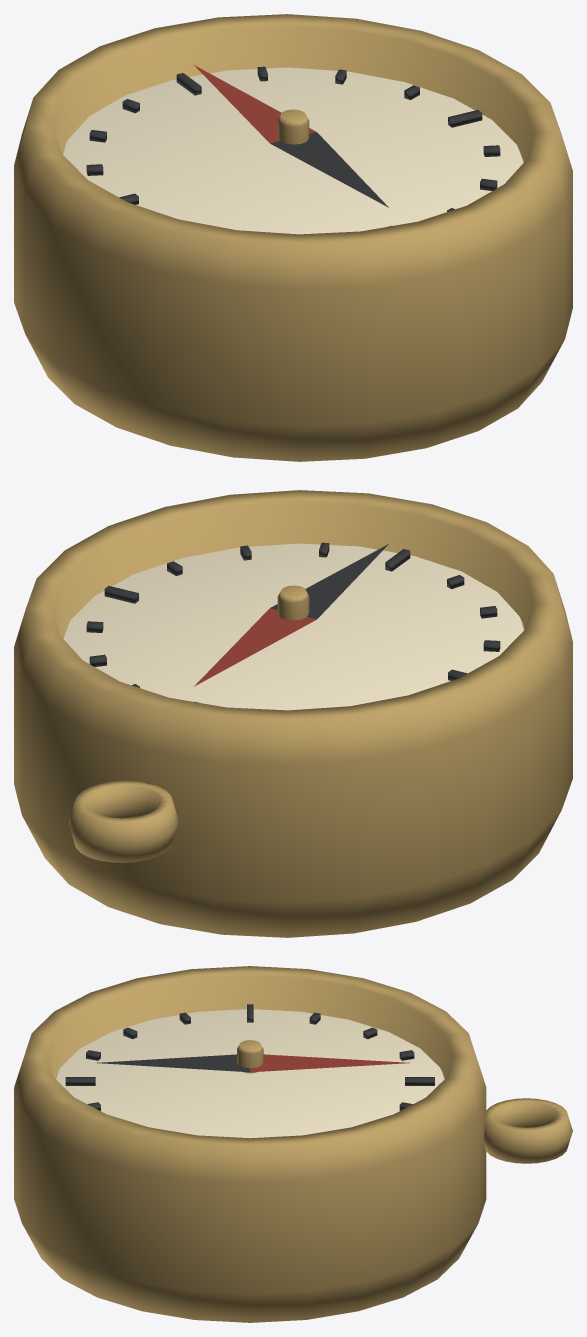
File: P022_compass_rebuilt.glb
3 views of the same model, one above another, from view 1: azimuth 30°, elevation 25°; view 2: azimuth 150°, elevation 25°; view 3: azimuth 270°, elevation 25° (orthographic). The views are drawn at different scales.
Visible parts, largest first — view 1: brass, cream, ink, red; view 2: brass, cream, ink, red; view 3: brass, cream, ink, red.
Boxes of the visible parts, x1,y1,x2,y2 form: brass: (14, 14, 572, 461); cream: (62, 67, 523, 234); ink: (86, 66, 500, 226); red: (194, 65, 316, 143); brass: (14, 490, 572, 937); cream: (63, 543, 524, 710); ink: (86, 542, 500, 702); red: (194, 608, 316, 686); brass: (14, 966, 572, 1322); cream: (55, 1009, 444, 1138); ink: (65, 1004, 434, 1110); red: (250, 1054, 410, 1072).
Bounding box in the file's own units: 0.142 × 0.067 × 0.177.
